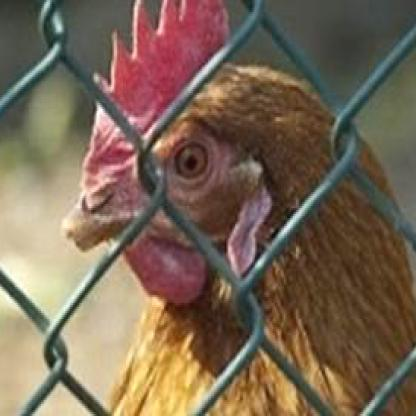chicken: (63, 0, 414, 414)
